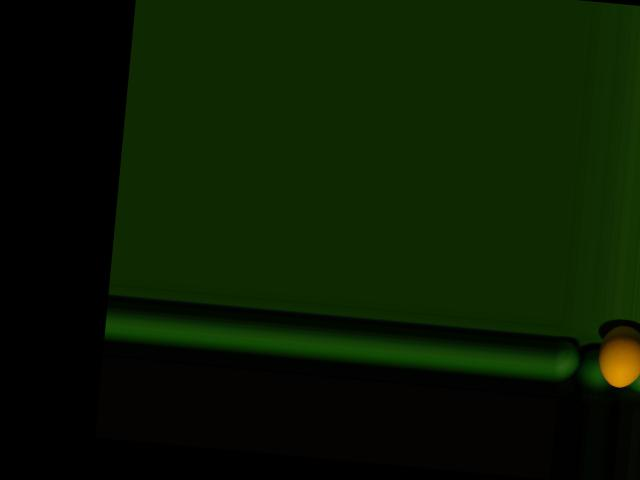egg: (596, 322, 640, 389)
